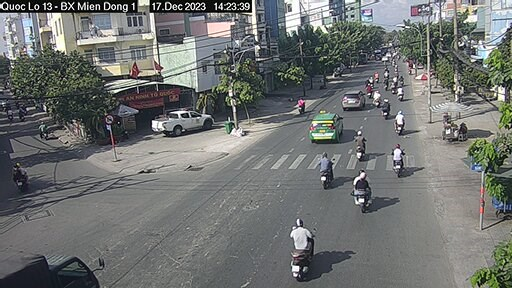car: (150, 108, 216, 138), (309, 112, 343, 139), (338, 89, 365, 112)
motorbike: (288, 218, 320, 279), (347, 172, 371, 210), (318, 151, 335, 189), (383, 148, 406, 175), (353, 129, 366, 159), (391, 114, 405, 132), (380, 97, 391, 119), (297, 95, 308, 113)
